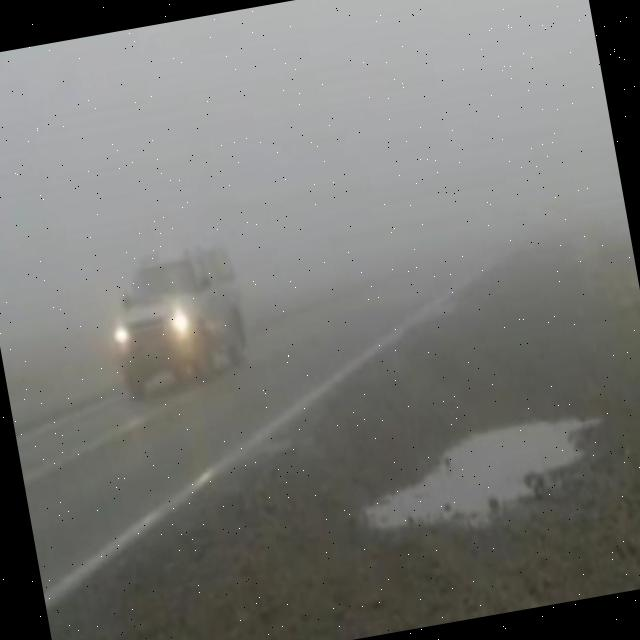car: (95, 241, 252, 399)
